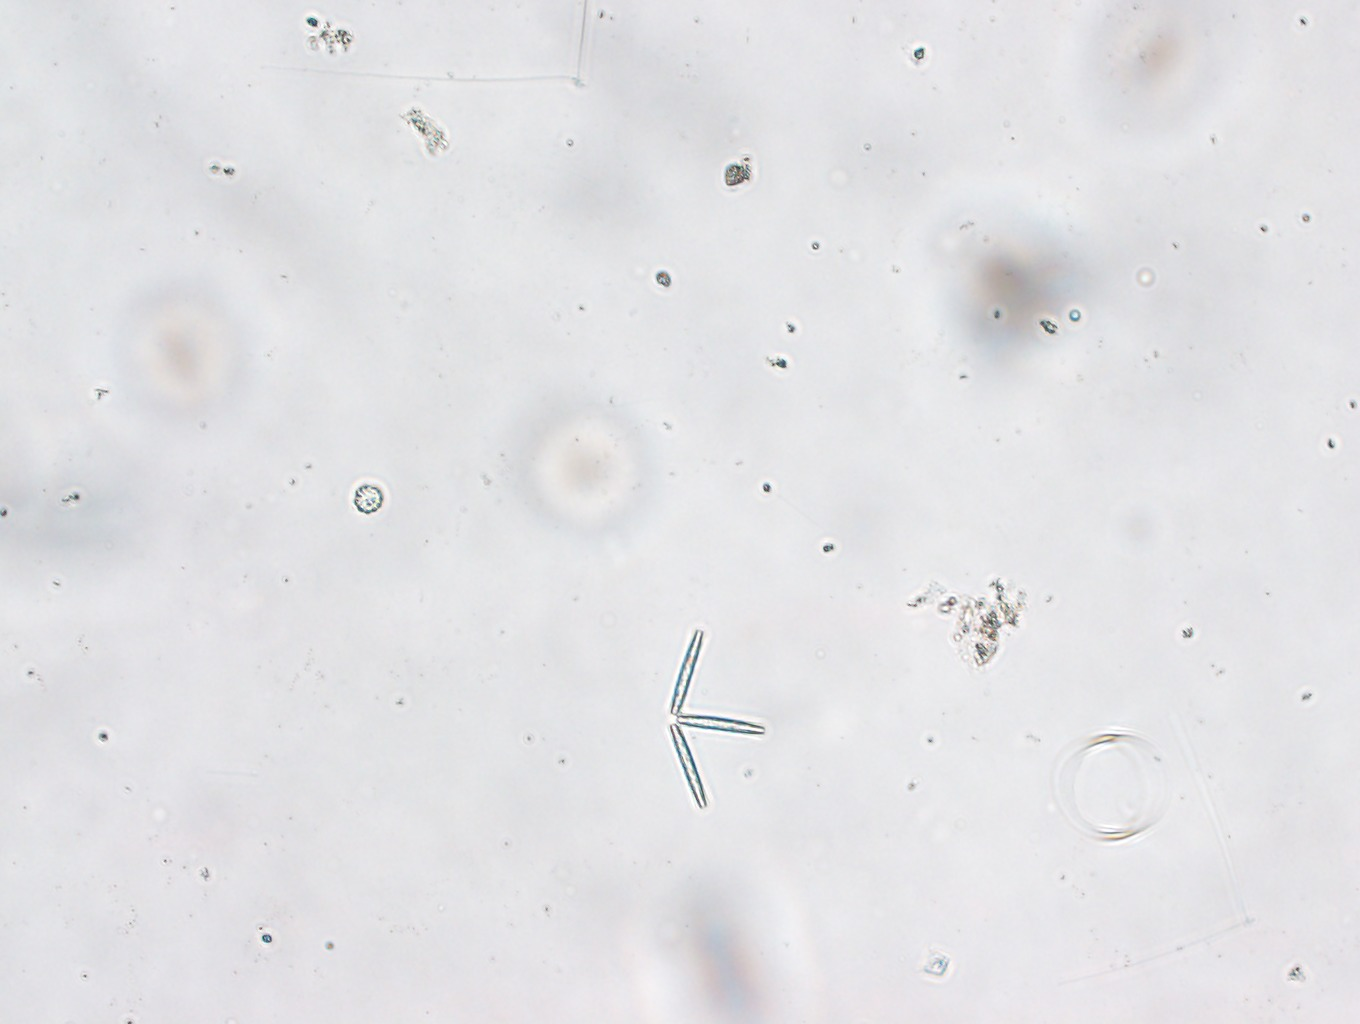thalassionema nitzschioides: (671, 630, 763, 811)
